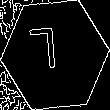L_S: (39, 28, 71, 82)
